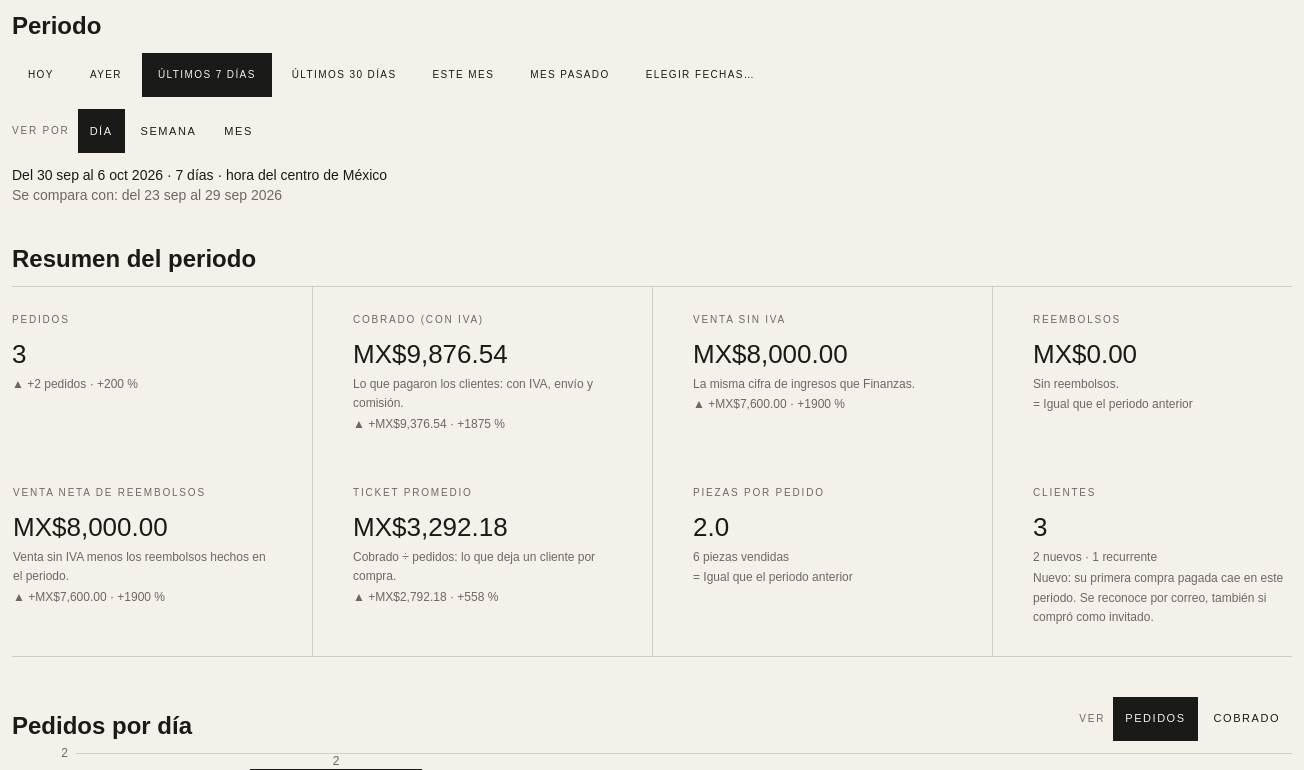
UX-AN-7 · rango a mano: se valida antes de mandar; el `400` va bajo su campo › desde > hasta ⇒ su texto y NINGUNA petición
The width and height of the screenshot is (1304, 770).
Expected: the element with test id "sales-period-label" is shown, x1=12 y1=167 x2=387 y2=203
Click the button "Elegir fechas…": [700, 75] box x1=630 y1=53 x2=771 y2=97
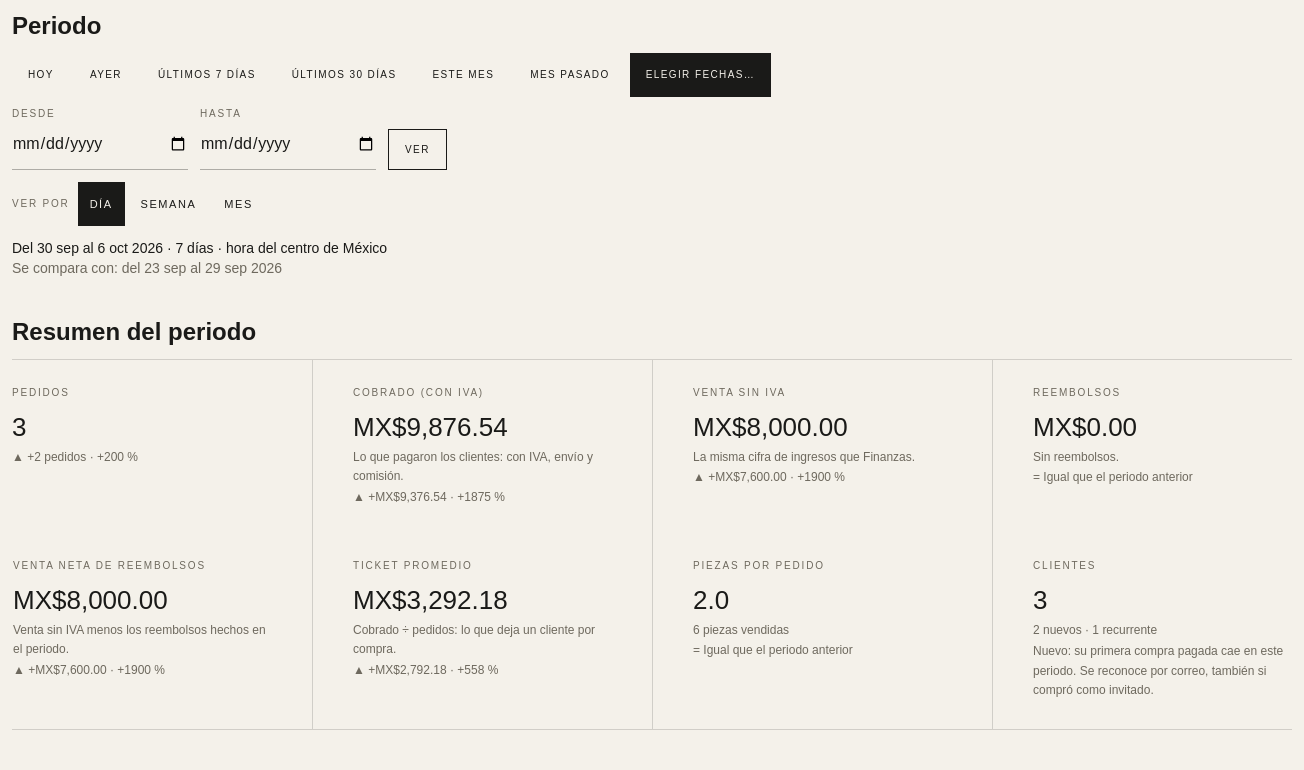
In the date field labelled "Desde": [100, 144] box x1=12 y1=131 x2=188 y2=157, type "2026-09-10"
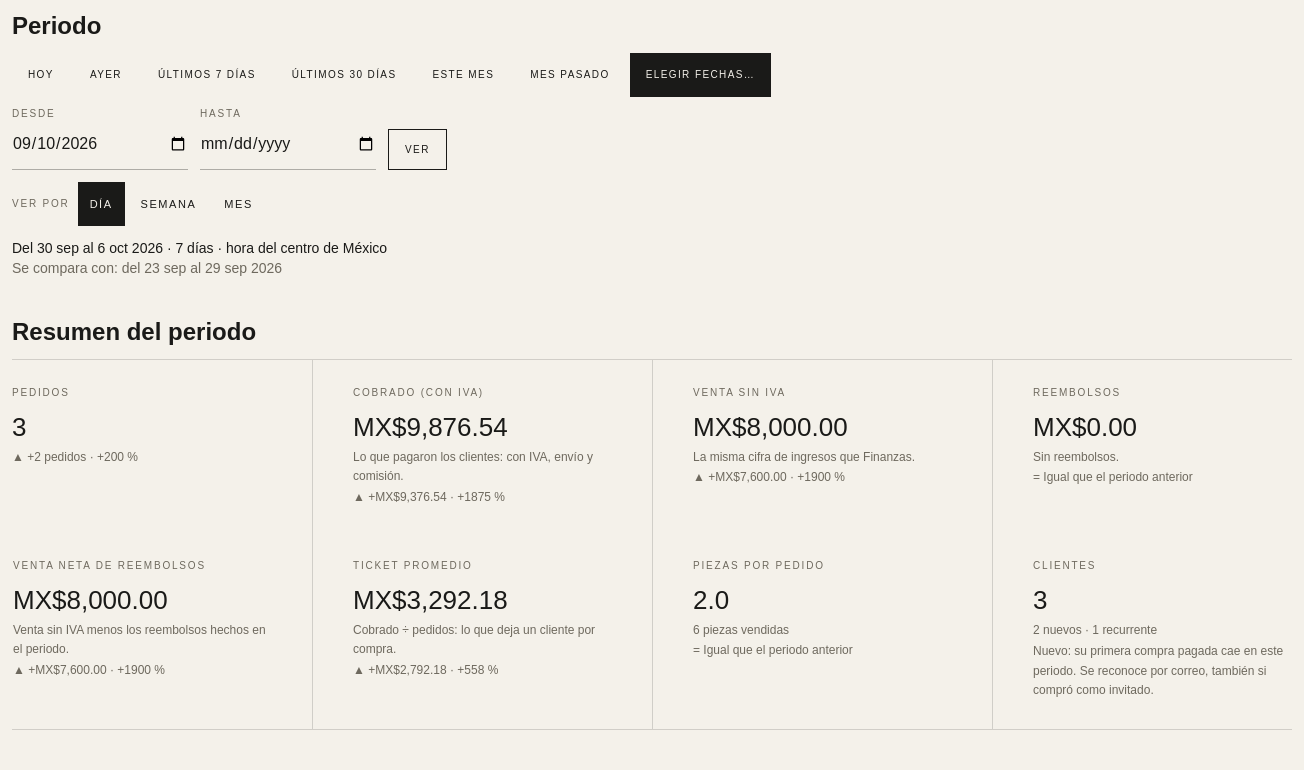
In the date field labelled "Hasta": [288, 144] box x1=200 y1=131 x2=376 y2=157, type "2026-09-01"
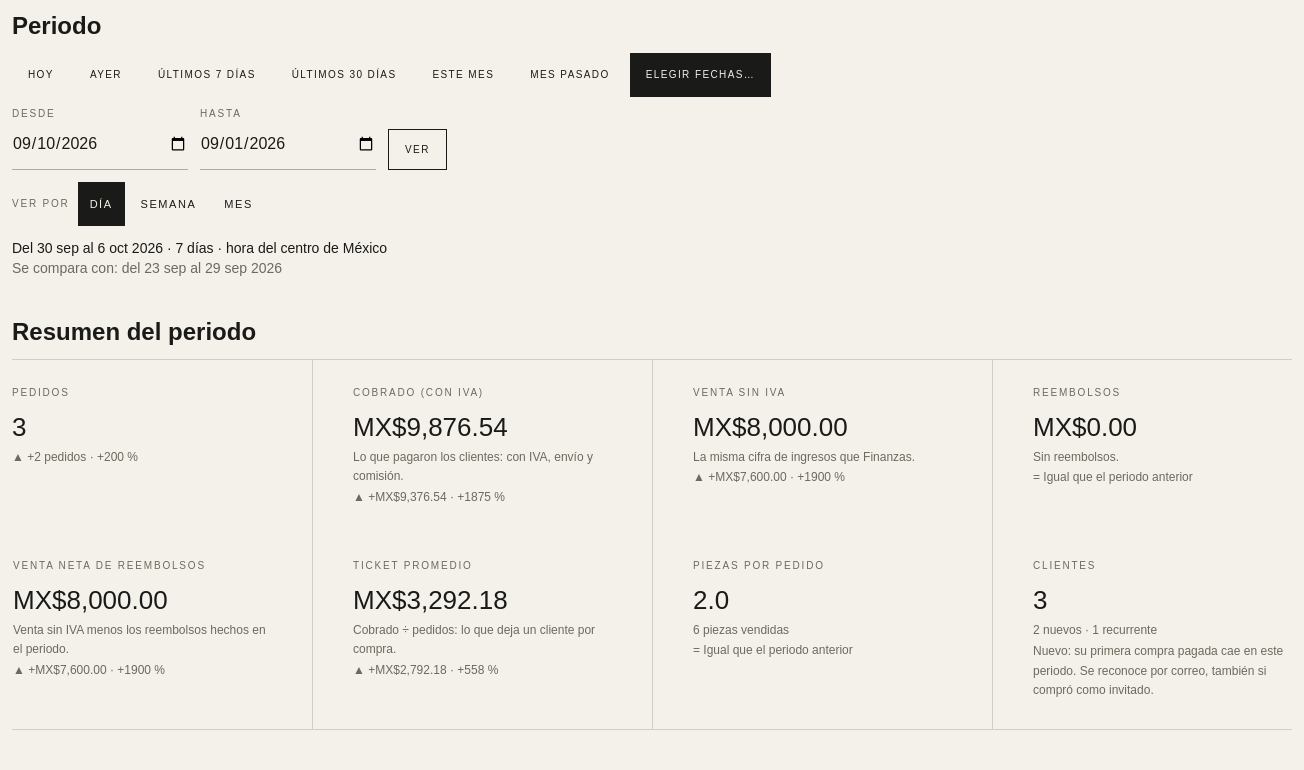
Click the button "Ver": [417, 149] box x1=388 y1=129 x2=447 y2=170
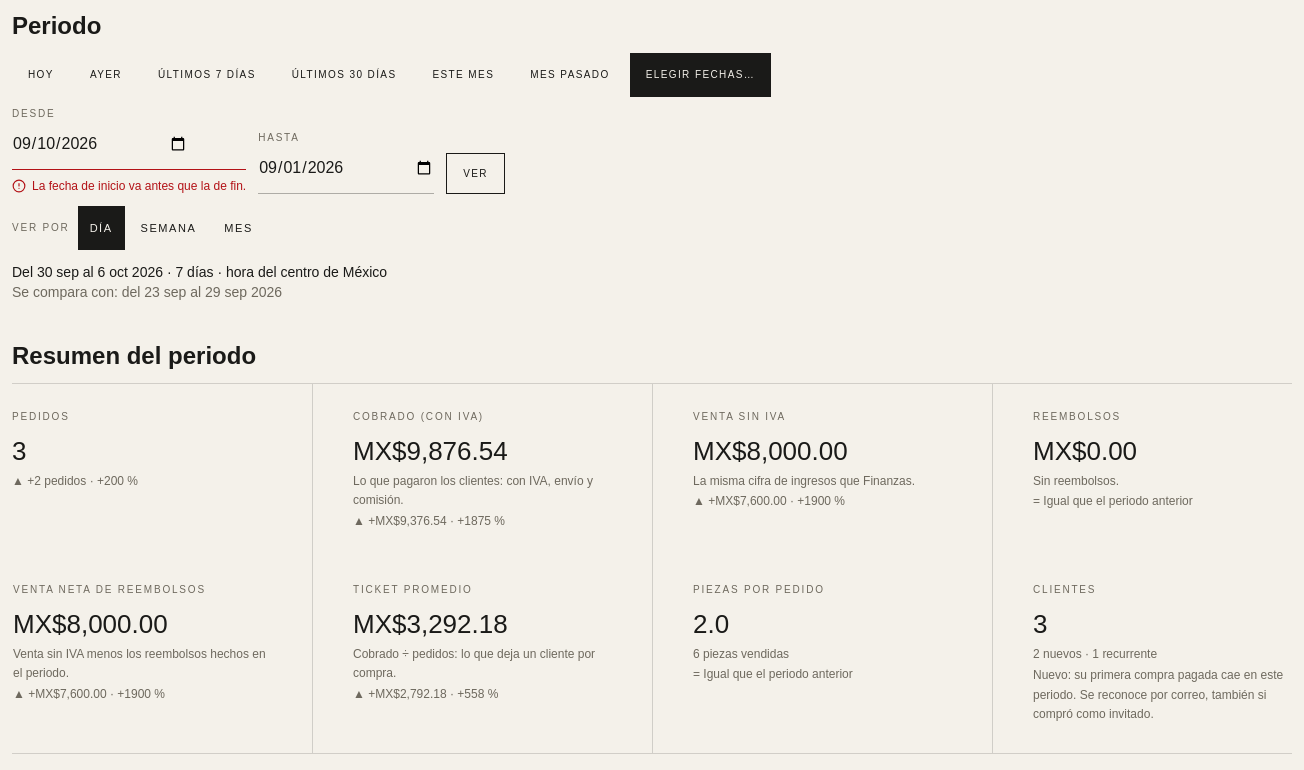
Expected: the text "La fecha de inicio va antes que la de fin." is shown, x1=12 y1=178 x2=246 y2=194
